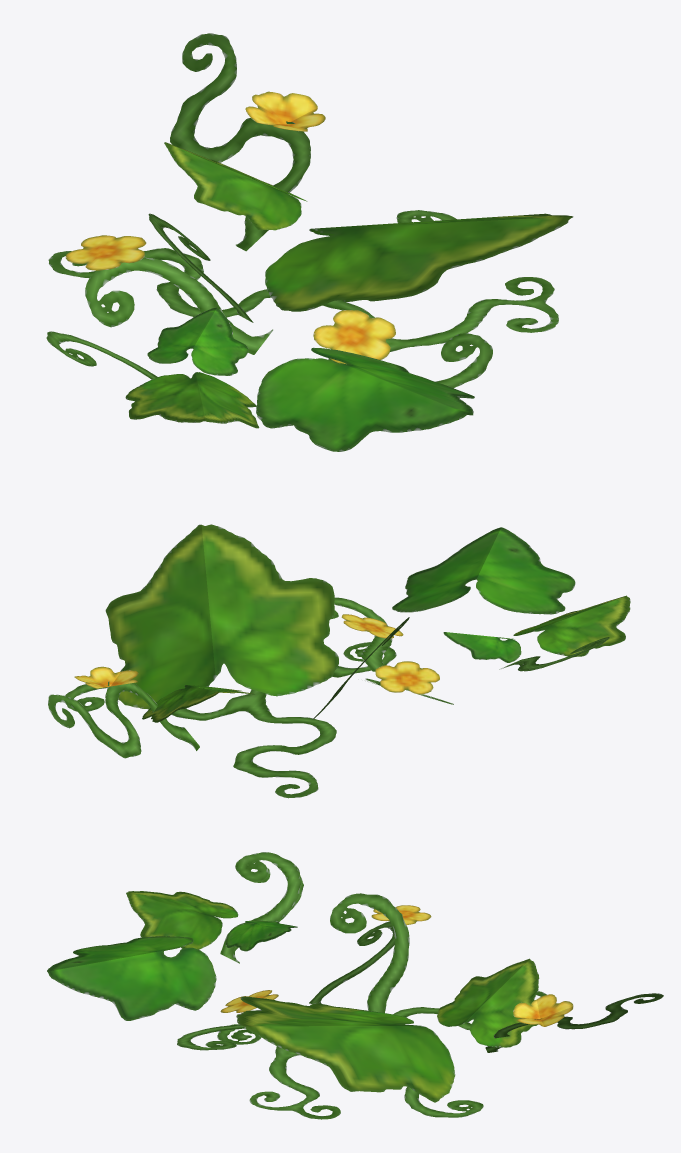
The model's file is Pla_nangua04.FBX.
3 renders of one model, top to bottom at view 1: azimuth 30°, elevation 25°; view 2: azimuth 150°, elevation 25°; view 3: azimuth 270°, elevation 25°, orthographic. The views are drawn at different scales.
Parts seen in each view (by area): view 1: Pla_nangua04; view 2: Pla_nangua04; view 3: Pla_nangua04.
Part boxes in pixels (<box>): Pla_nangua04: <box>46,33,573,451</box>; Pla_nangua04: <box>48,524,630,798</box>; Pla_nangua04: <box>47,852,663,1119</box>.
Size of the model in its own units: 8.83 by 10.33 by 2.33.
